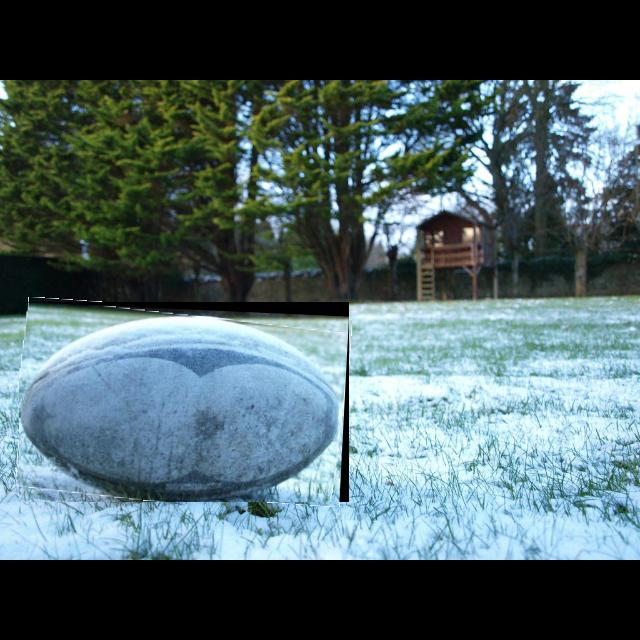Football: (19, 302, 349, 502)
